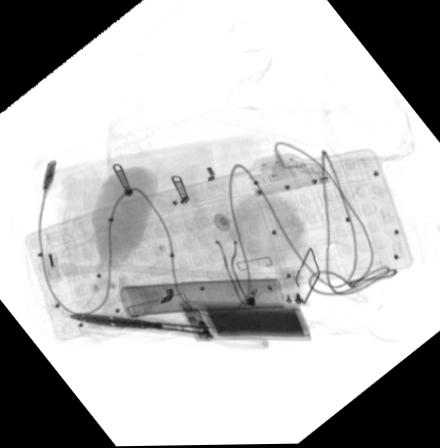Powerbank: (175, 302, 313, 344)
Scissors: (59, 305, 273, 349)
